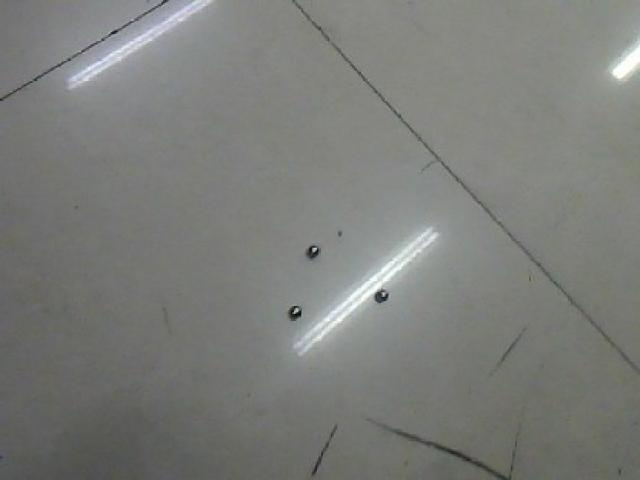steel-ball: (366, 278, 396, 314), (297, 234, 323, 271), (283, 297, 306, 331)
